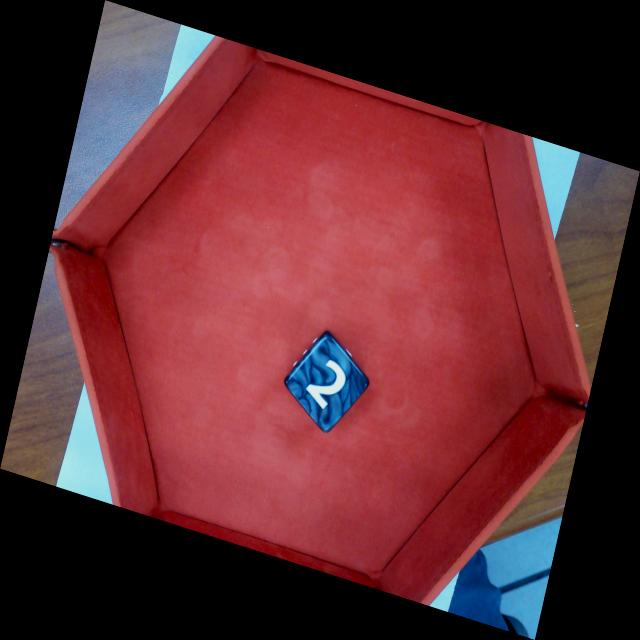dice: (285, 333, 370, 437)
